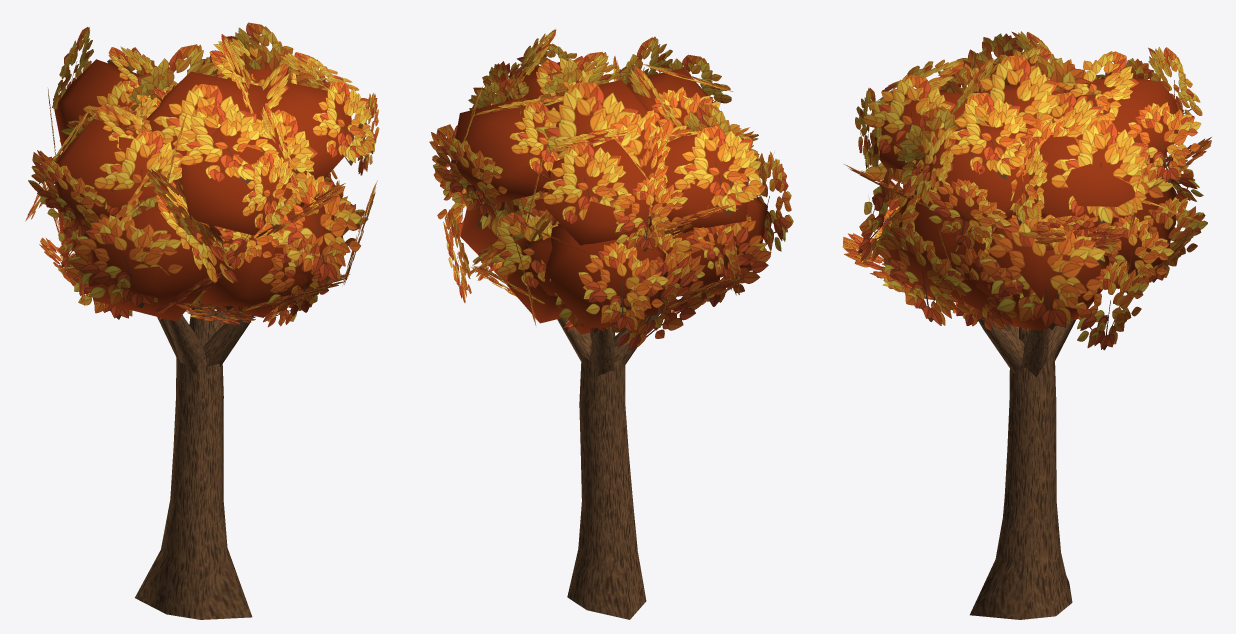
File: autumn_leafy_tree_lod.glb
3 renders of one model, left to right at view 1: azimuth 30°, elevation 25°; view 2: azimuth 150°, elevation 25°; view 3: azimuth 270°, elevation 25°, orthographic. The views are drawn at different scales.
Visible parts, largest first — view 1: autumn_leafy_tree_lod; view 2: autumn_leafy_tree_lod; view 3: autumn_leafy_tree_lod.
Boxes of the visible parts, x1,y1,x2,y2 form: autumn_leafy_tree_lod: (25,22,379,619); autumn_leafy_tree_lod: (429,29,793,619); autumn_leafy_tree_lod: (842,31,1211,619).
Bounding box in the file's own units: 5.58 × 8.99 × 5.67.
3 materials, 2 textured.
